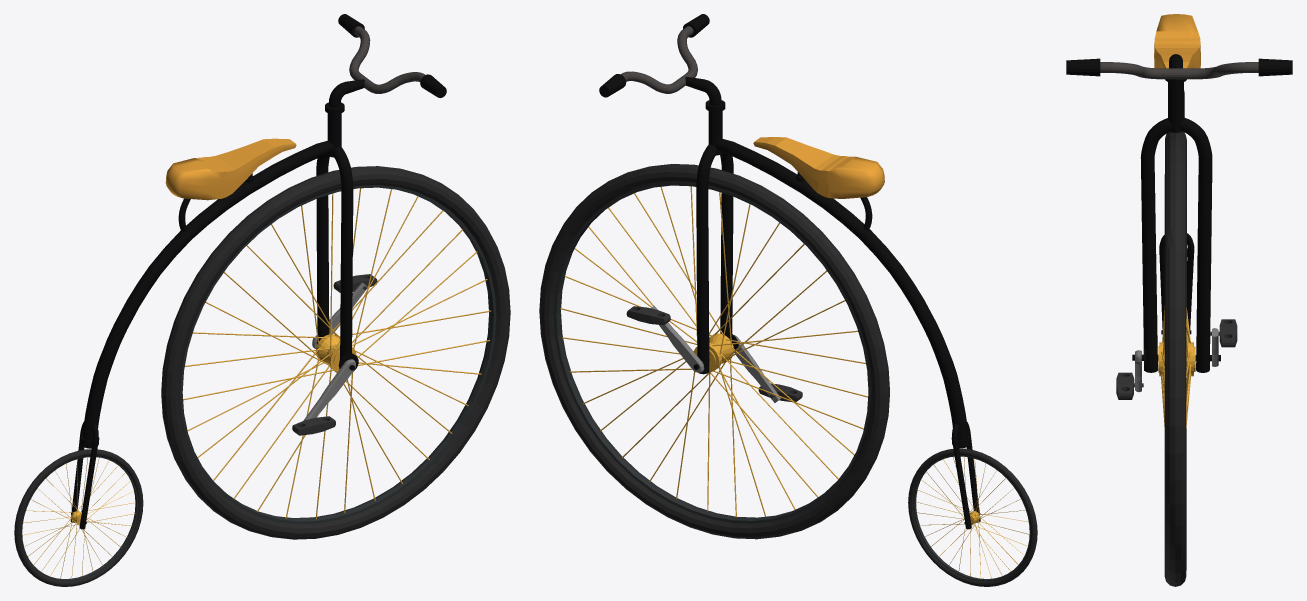
The model's file is o3_biciclo.glb.
3 renders of one model, left to right at view 1: azimuth 30°, elevation 25°; view 2: azimuth 150°, elevation 25°; view 3: azimuth 270°, elevation 25°, orthographic. The views are drawn at different scales.
Visible parts, largest first — view 1: sb_modello; view 2: sb_modello; view 3: sb_modello.
Boxes of the visible parts, x1,y1,x2,y2 form: sb_modello: [14, 14, 510, 586]; sb_modello: [539, 14, 1037, 586]; sb_modello: [1066, 14, 1292, 586].
Size of the model in its own units: 1.59 by 1.44 by 0.5476.
